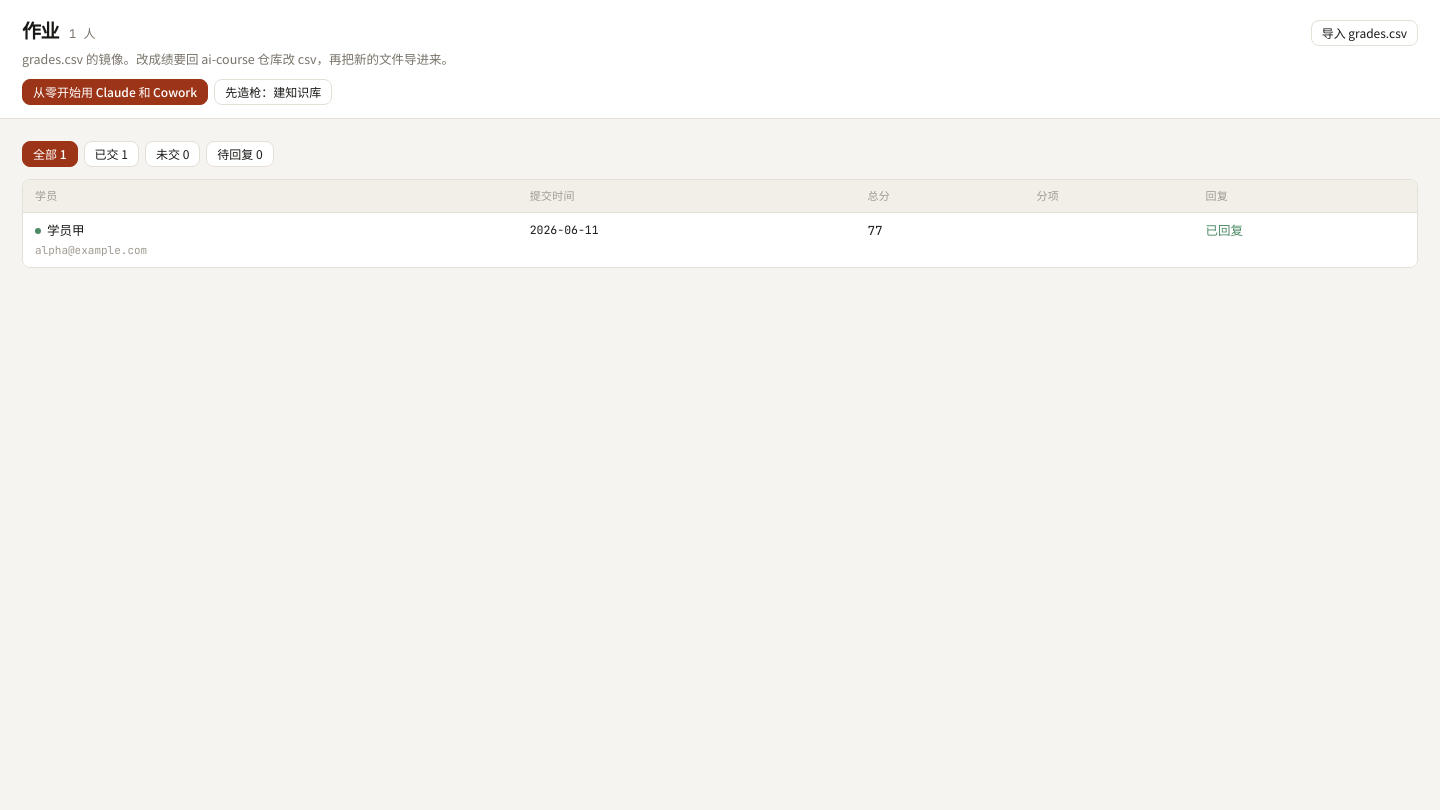
Test: 讲师标记已回复 › 已标记时显示徽章与时间戳，按钮变成「标记未回复」
Step 1. Click the row with test id "homework-alpha@example.com" → (720, 240), box x1=23 y1=213 x2=1417 y2=267
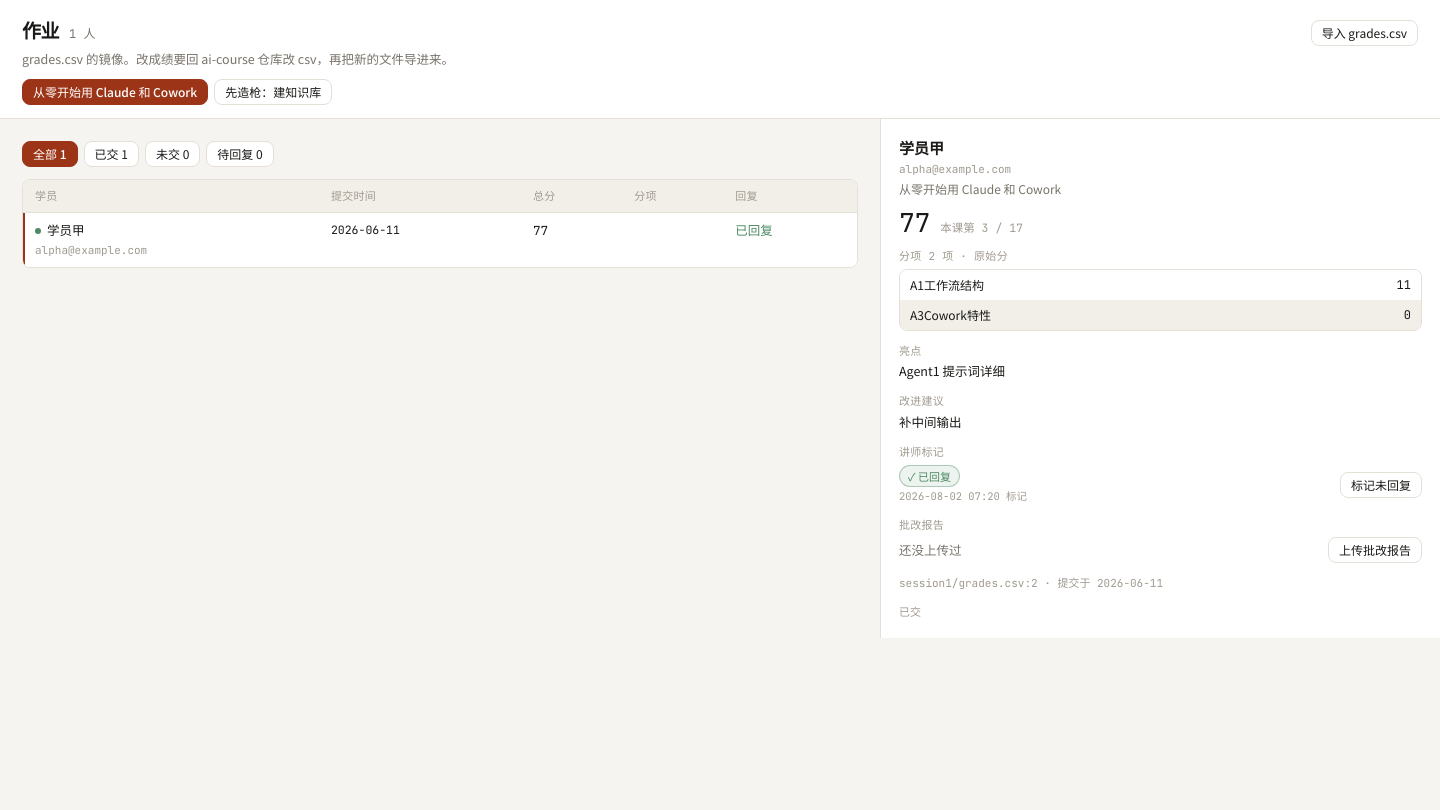
Check: the text "✓ 已回复" is shown, box x1=899 y1=465 x2=960 y2=487
Check: the button "标记未回复" is shown, box x1=1340 y1=472 x2=1422 y2=498
